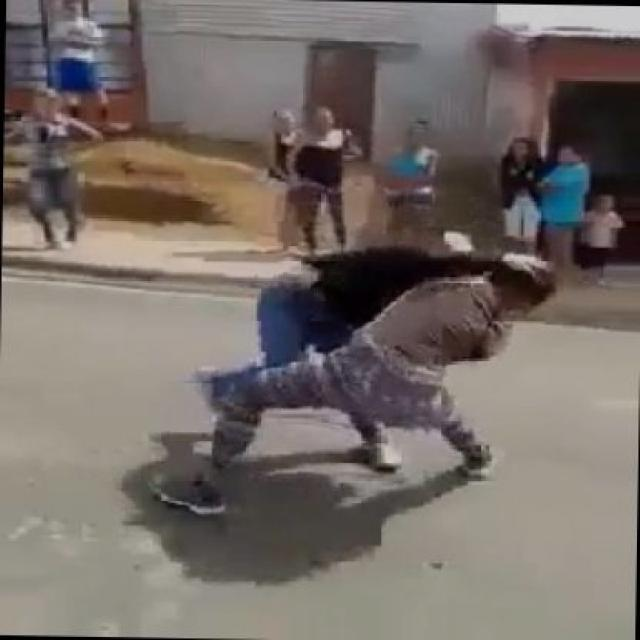fight: (151, 218, 560, 502)
non-fight: (275, 103, 357, 257), (534, 147, 592, 276)
